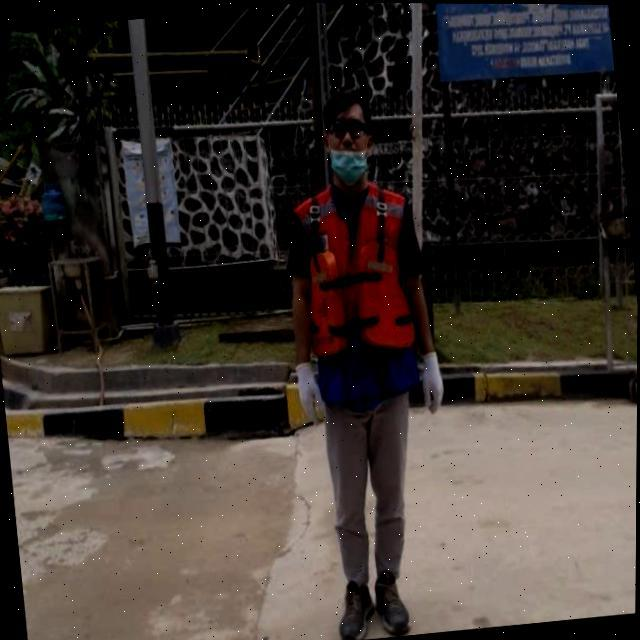goggles_on: (324, 114, 380, 143)
